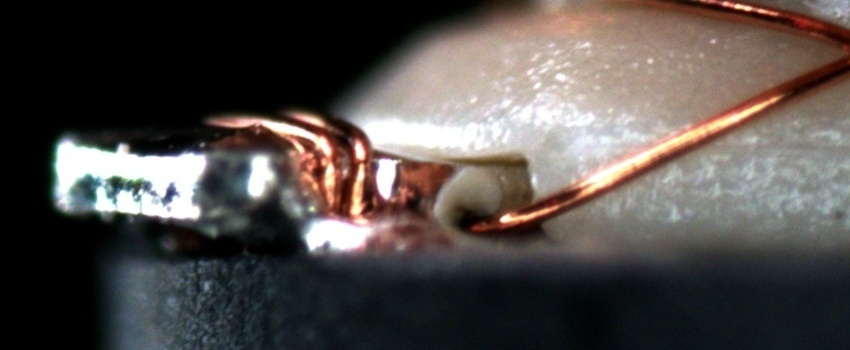CL: (831, 25, 850, 74)
DL: (595, 112, 847, 175)
TE: (197, 103, 377, 224)
